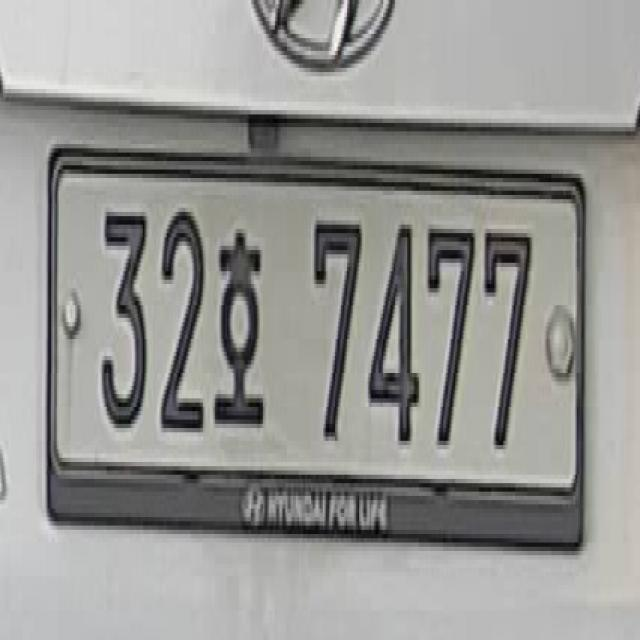2: (158, 203, 209, 441)
3: (99, 199, 150, 428)
4: (365, 212, 422, 445)
7: (307, 208, 362, 449), (481, 216, 535, 458), (424, 216, 474, 445)
ho: (212, 220, 264, 428)
license_plate: (46, 140, 582, 504)
